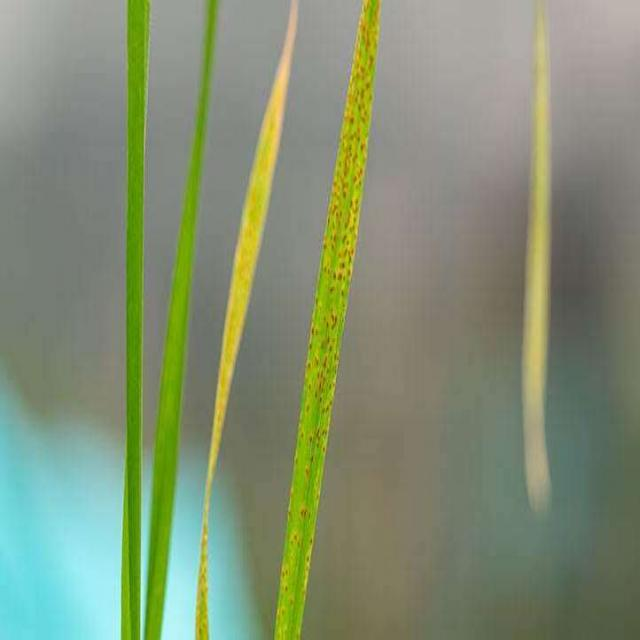leaf rust: (276, 2, 381, 634)
